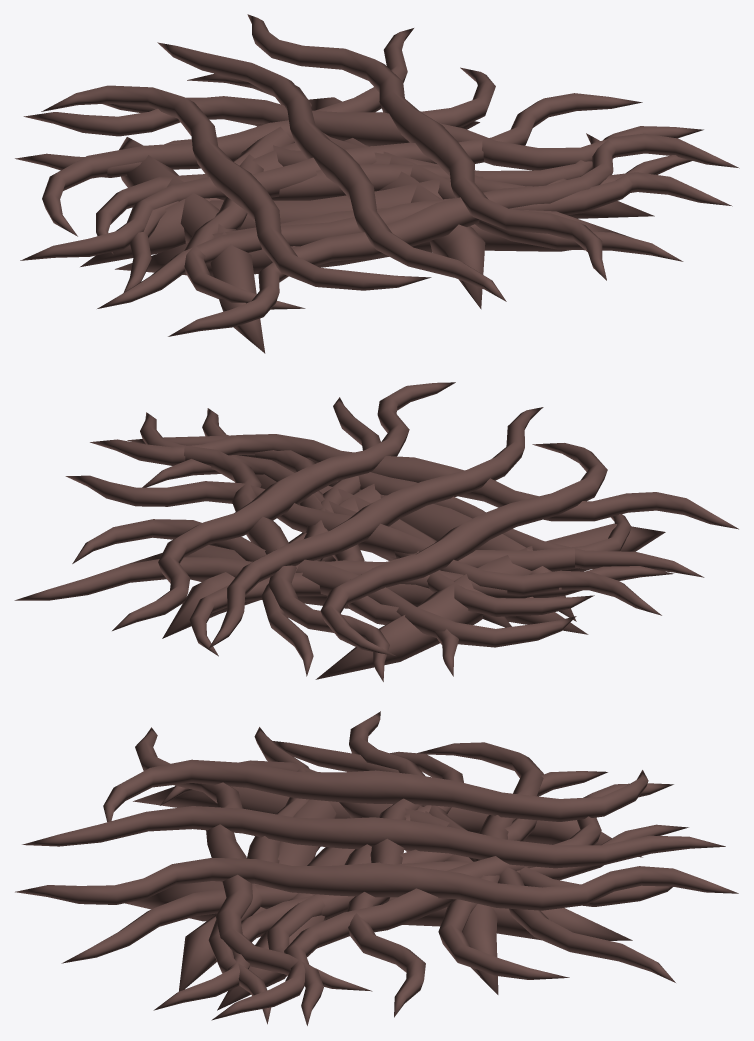
Rendered from root_floor_square_001.fbx.
The picture shows the model from 3 angles, top to bottom: view 1: azimuth 30°, elevation 25°; view 2: azimuth 150°, elevation 25°; view 3: azimuth 270°, elevation 25°; orthographic projection. The views are drawn at different scales.
Visible parts, largest first — view 1: root.floor.square.001; view 2: root.floor.square.001; view 3: root.floor.square.001.
Boxes of the visible parts, x1,y1,x2,y2 form: root.floor.square.001: (15, 14, 739, 353); root.floor.square.001: (14, 382, 738, 681); root.floor.square.001: (15, 711, 738, 1025).
Bounding box in the file's own units: 740 × 84.49 × 720.
